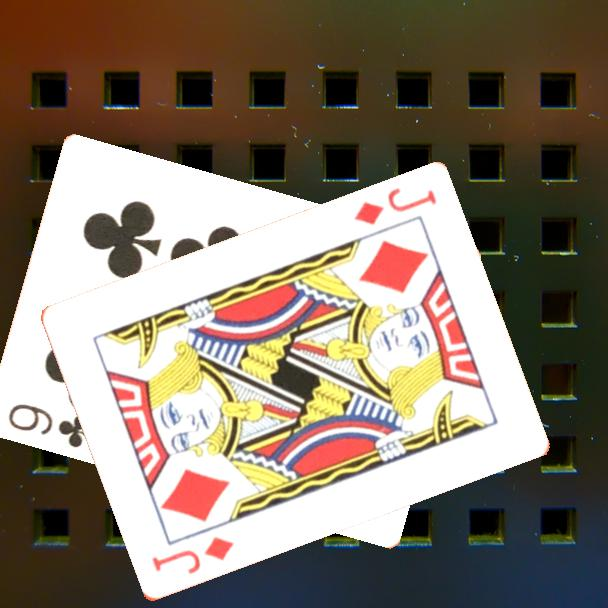c09: (4, 400, 94, 451)
d11: (147, 533, 237, 578), (350, 185, 439, 229)
